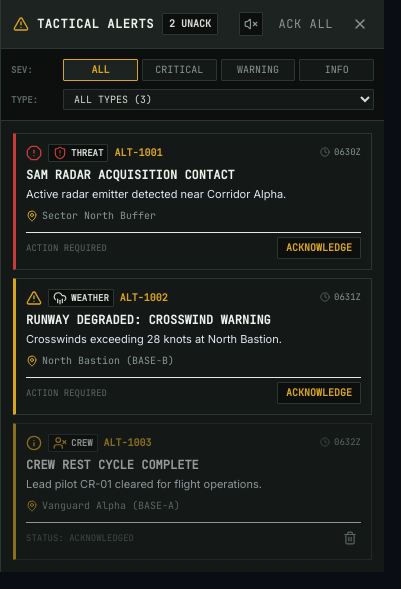
Test: Stage 9: AlertsDrawer & Alerts Store › filters alerts by operational type dropdown
The image size is (401, 589).
Select "WEATHER" in the dropdown named "filter alerts by type": (218, 100) [63,89,374,110]
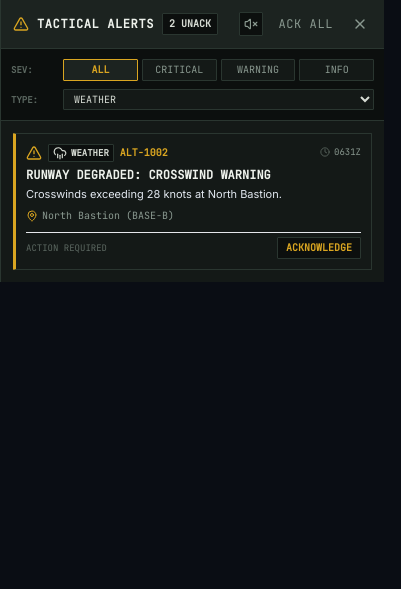
Expected: the heading "Runway Degraded: Crosswind Warning" is shown, [26,167,271,183]
Expected: the heading "SAM Radar Acquisition Contact" is gone
